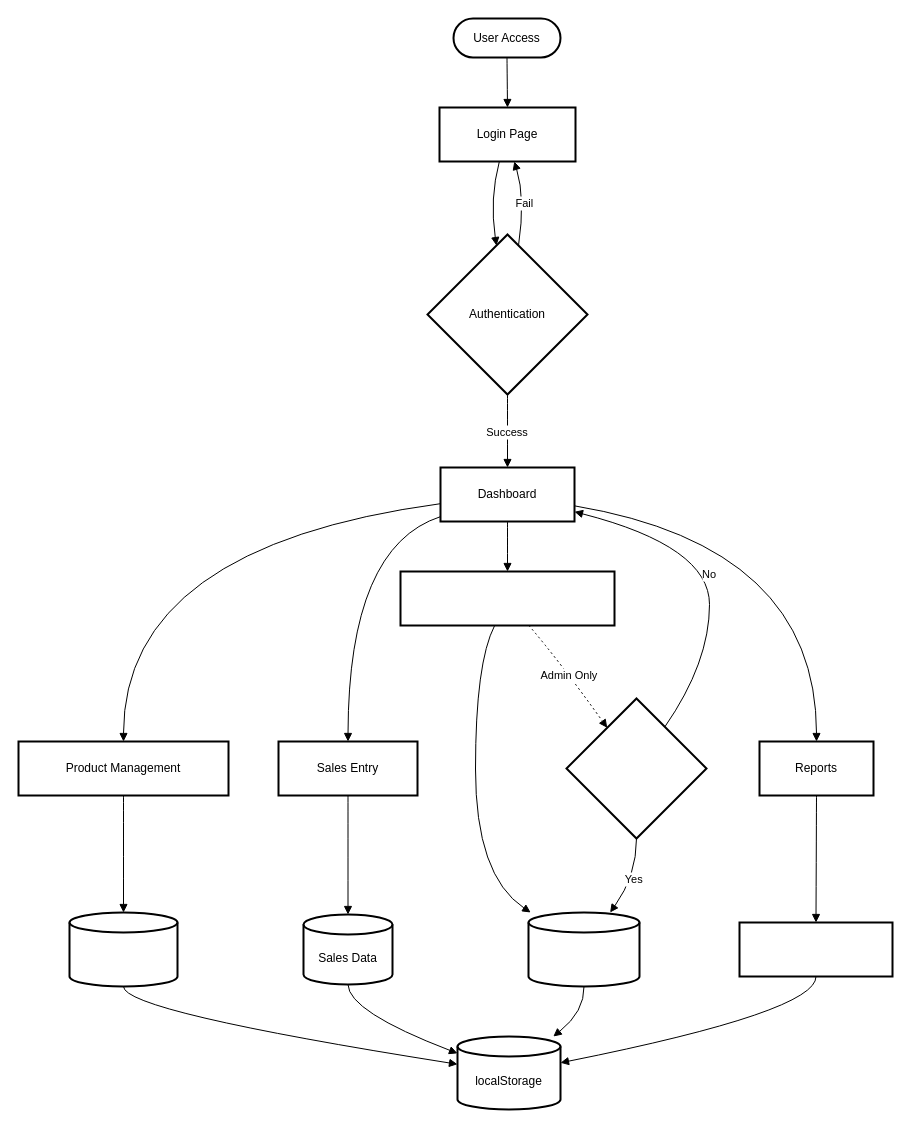
The diagram is 910 pixels wide and 1127 high, and some of its shapes have lost their labels. The centre of each missing label's shape, as x and y in pixels:
"Admin Role?" goes at (x=636, y=768).
"Product Data" goes at (x=123, y=949).
"Supplier Data" goes at (x=583, y=949).
"Supplier Management" goes at (x=507, y=598).
"View Reports" goes at (x=815, y=949).
